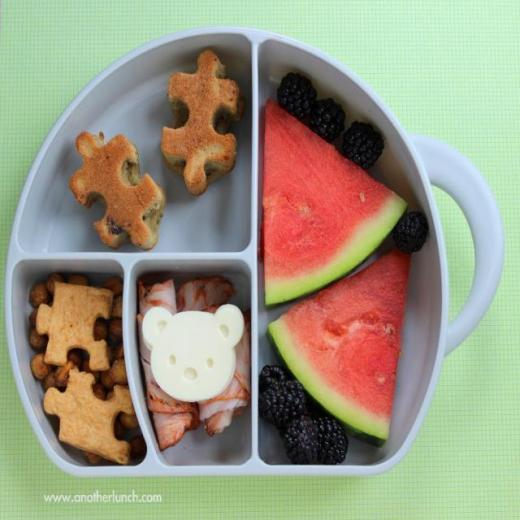Cherry: (258, 97, 406, 308), (267, 249, 412, 450)
